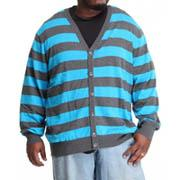S_cardigan sweater: (27, 5, 177, 173)
